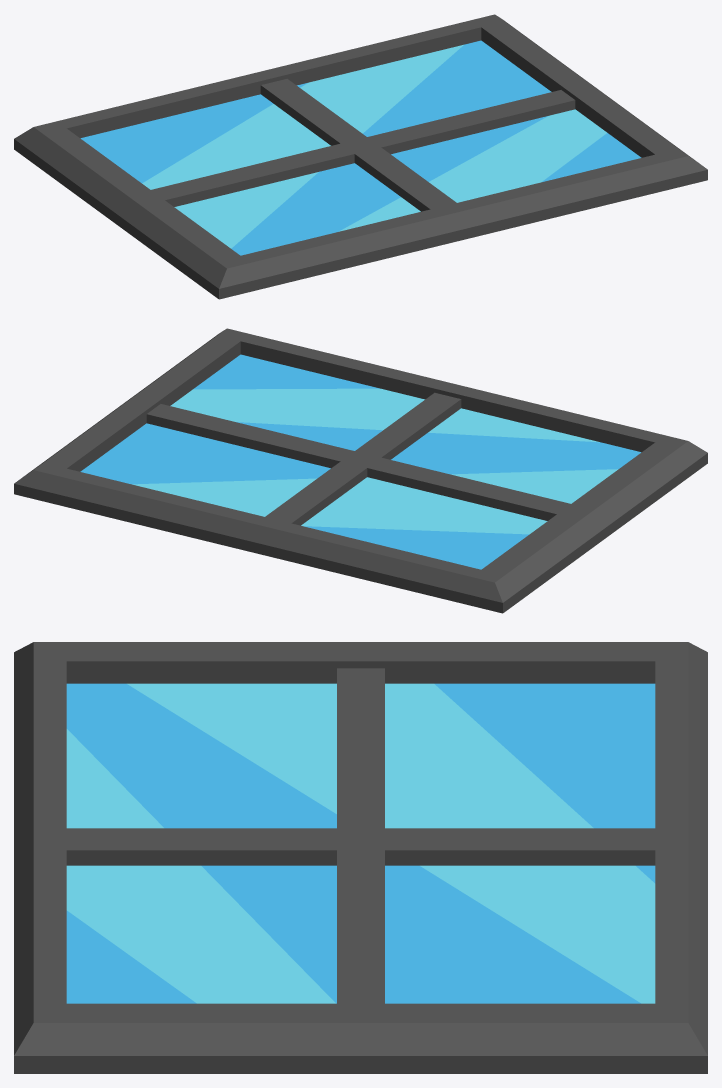
Rendered from Prop_RoofWindow_05.fbx.
3 views of the same model, one above another, from view 1: azimuth 30°, elevation 25°; view 2: azimuth 150°, elevation 25°; view 3: azimuth 270°, elevation 25° (orthographic). The views are drawn at different scales.
Parts seen in each view (by area): view 1: Prop_RoofWindow_05; view 2: Prop_RoofWindow_05; view 3: Prop_RoofWindow_05.
Part boxes in pixels (box(x1,y1,x2,y2)): Prop_RoofWindow_05: box(14, 14, 707, 299); Prop_RoofWindow_05: box(14, 328, 707, 613); Prop_RoofWindow_05: box(14, 642, 707, 1073).
Bounding box in the file's own units: 138 × 6.28 × 100.
